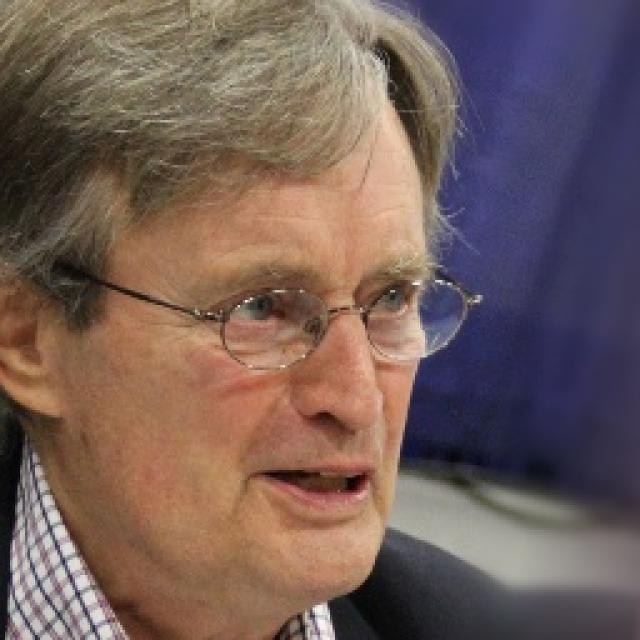glasses: (70, 243, 494, 382)
